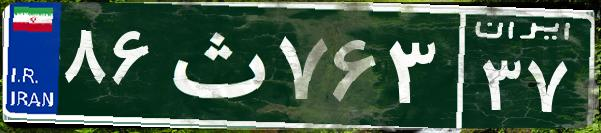3: (385, 28, 445, 110), (475, 38, 525, 113)
6: (330, 28, 385, 110), (110, 28, 158, 105)
7: (273, 28, 330, 110), (525, 38, 570, 115)
8: (57, 26, 110, 107)
ث: (158, 15, 273, 115)
